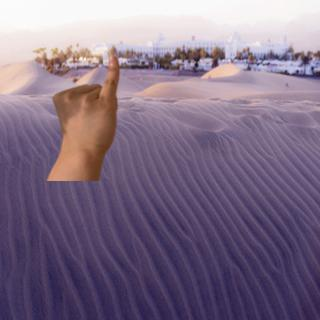FINE: (48, 48, 124, 161)
